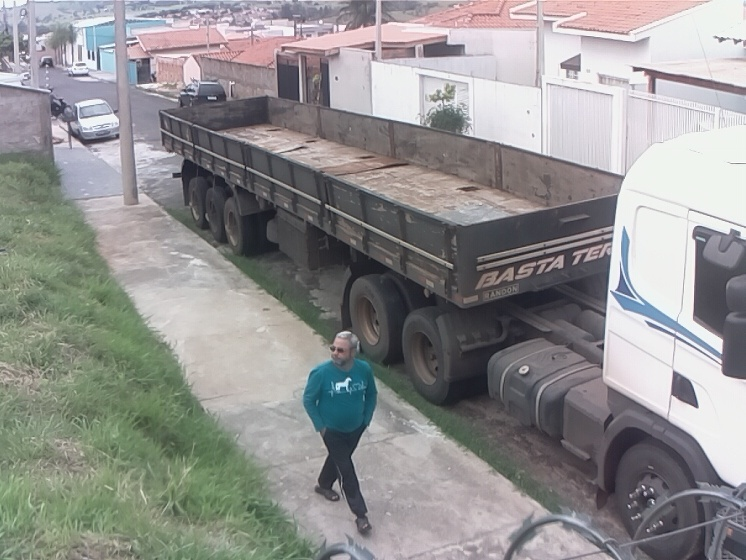person: (300, 329, 388, 538)
